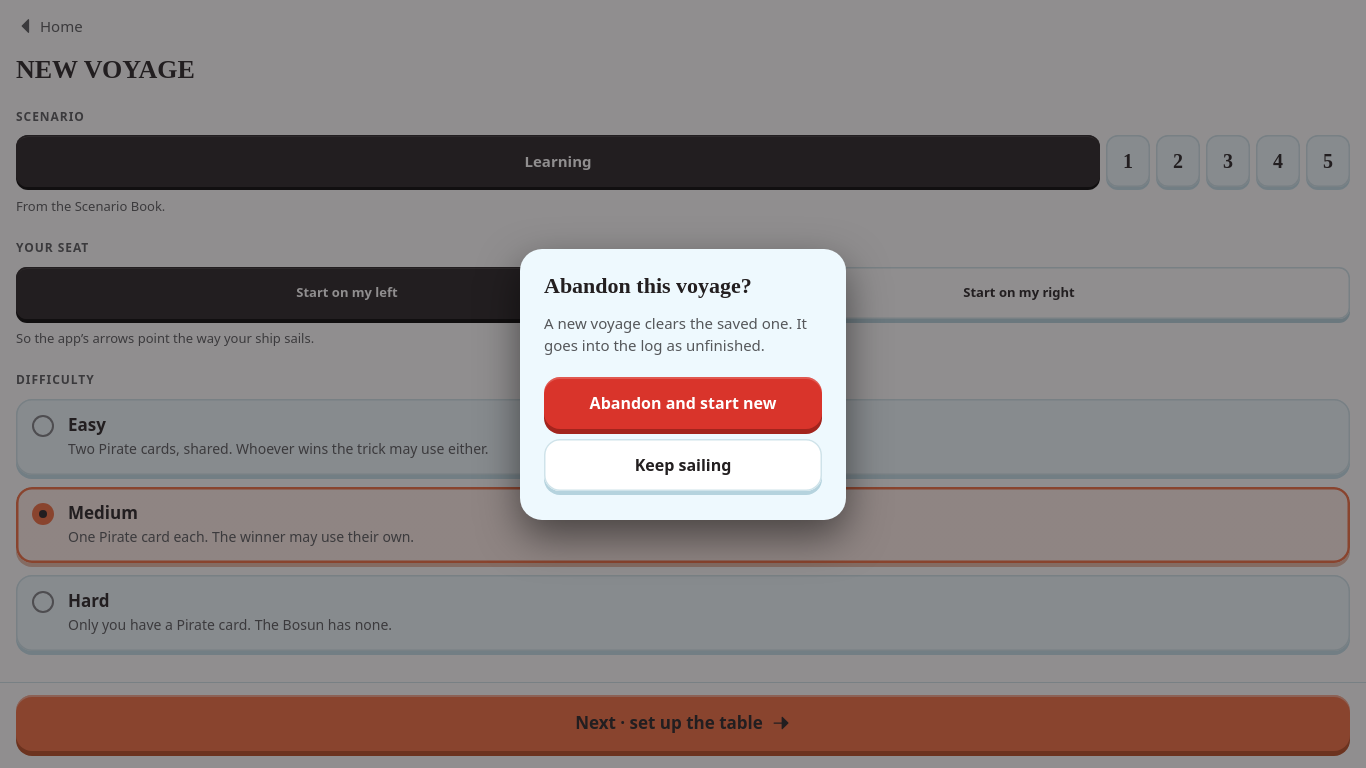
Scenario: Abandon this voyage? (design D7) › clears the saved voyage on Abandon and start new, logging it as unfinished
The image size is (1366, 768).
Click the button "Abandon and start new".
click(683, 402)  # box [544, 376, 822, 428]
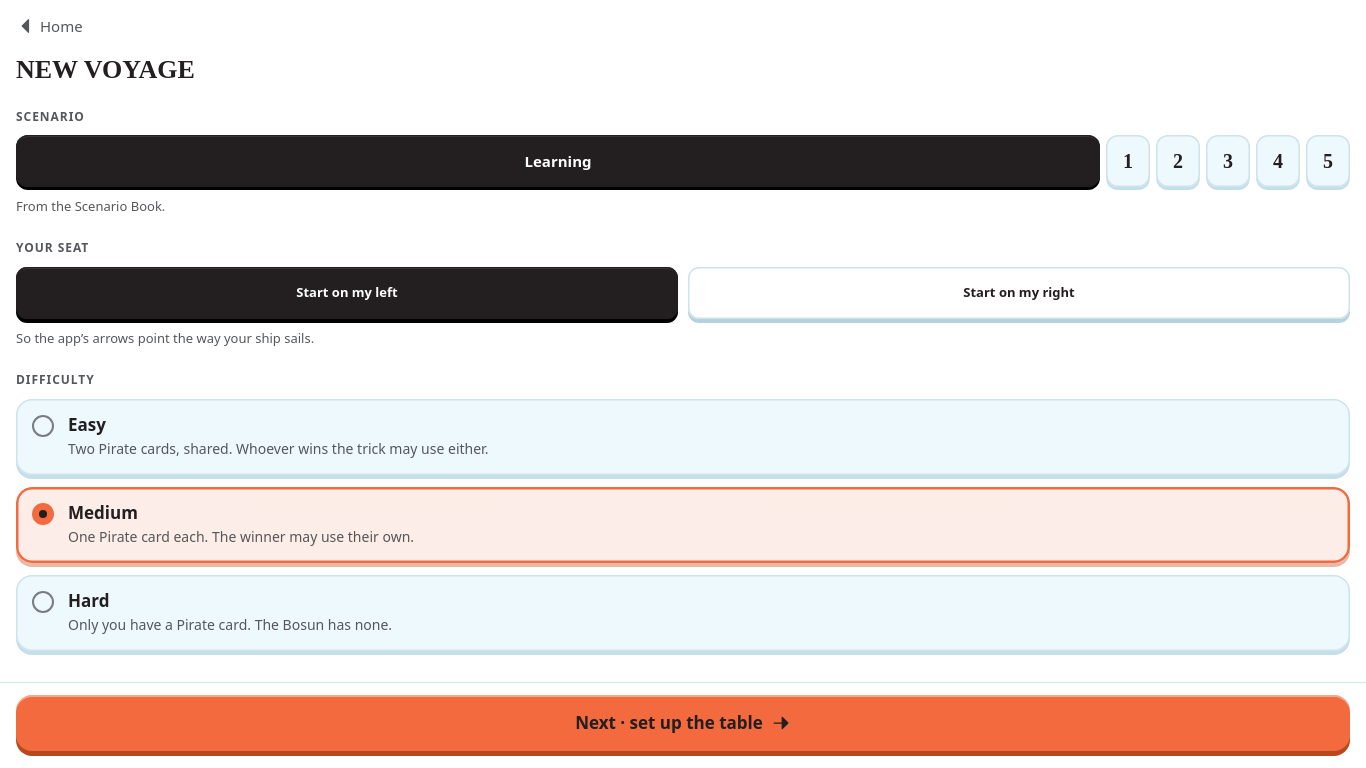
Now the dialog is gone
